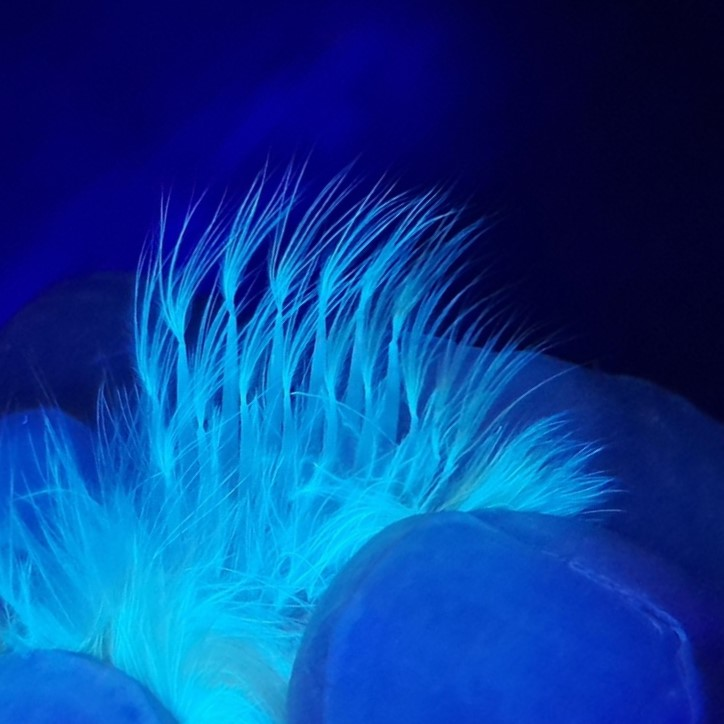female: (113, 276, 457, 600)
